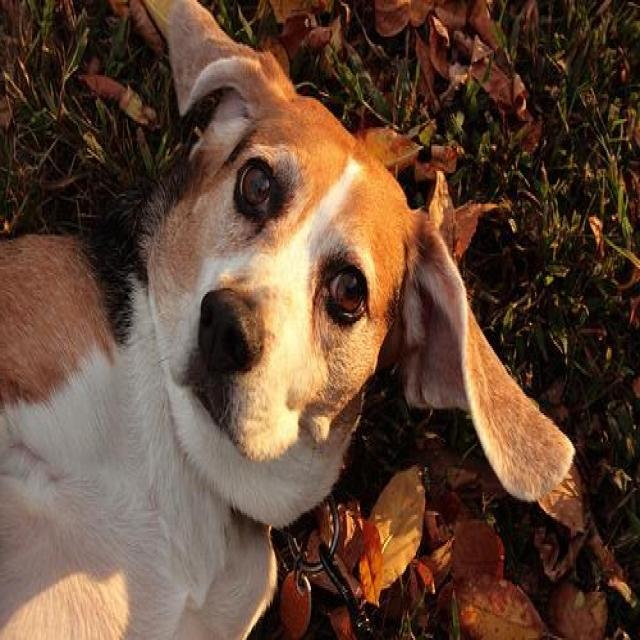beagle: (2, 0, 580, 638)
